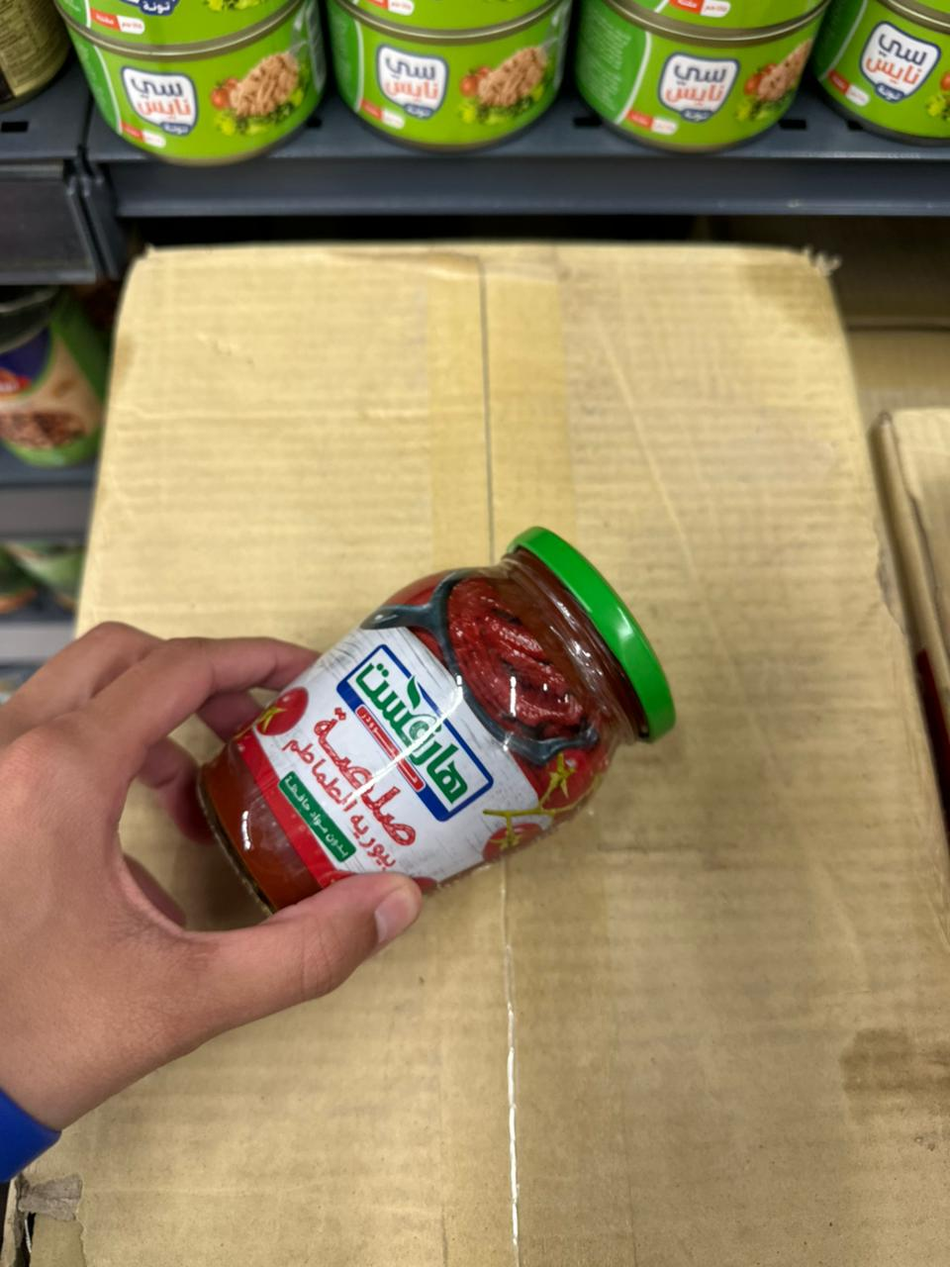tomato_puree: (285, 466, 730, 1020)
